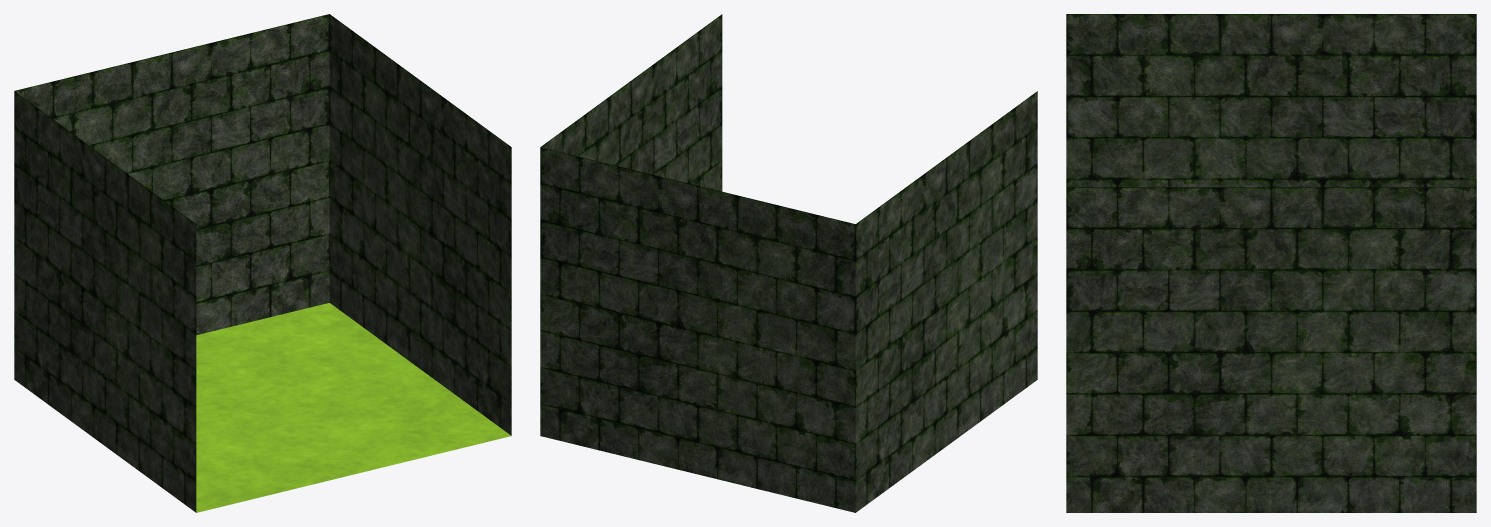
Rendered from grass_dead.glb.
The picture shows the model from 3 angles, left to right: view 1: azimuth 30°, elevation 25°; view 2: azimuth 150°, elevation 25°; view 3: azimuth 270°, elevation 25°; orthographic projection. The views are drawn at different scales.
Parts seen in each view (by area): view 1: ground; view 2: ground; view 3: ground.
Boxes of the visible parts, x1,y1,x2,y2 form: ground: (14,14,511,512); ground: (540,14,1037,512); ground: (1066,14,1476,512).
Bounding box in the file's own units: 2 × 1.75 × 2.
Materials: 2 (2 with a texture image).
